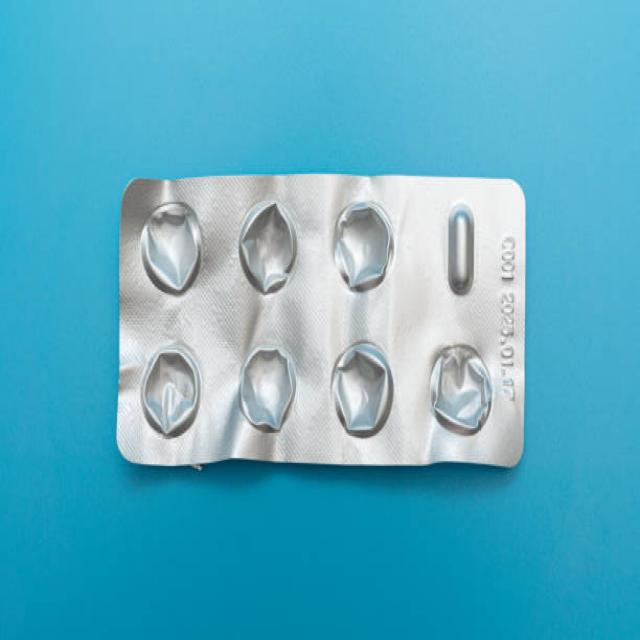Empty: (422, 328, 497, 451), (138, 336, 206, 461), (331, 324, 394, 455), (134, 194, 207, 304), (235, 335, 303, 448), (327, 194, 396, 304), (233, 191, 301, 302)
Pill: (427, 197, 492, 311)
